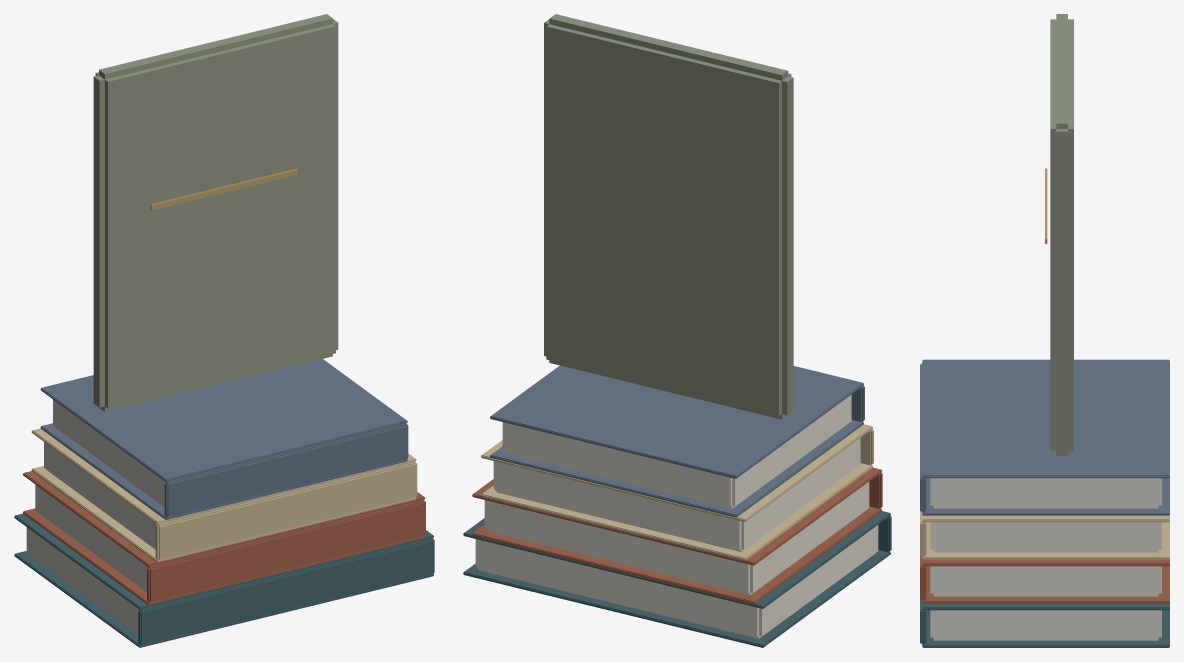
The model's file is campaign_books.glb.
The picture shows the model from 3 angles, left to right: view 1: azimuth 30°, elevation 25°; view 2: azimuth 150°, elevation 25°; view 3: azimuth 270°, elevation 25°; orthographic projection. The views are drawn at different scales.
Visible parts, largest first — view 1: campaign_books_Book_jacket_4, campaign_books_Book_jacket_3, campaign_books_Book_jacket_0, campaign_books_Book_jacket_1, campaign_books_Book_jacket_2, campaign_books_Paper_page_edges, campaign_books_Satin_champagne; view 2: campaign_books_Book_jacket_4, campaign_books_Paper_page_edges, campaign_books_Book_jacket_3, campaign_books_Book_jacket_0, campaign_books_Book_jacket_1, campaign_books_Book_jacket_2; view 3: campaign_books_Book_jacket_3, campaign_books_Paper_page_edges, campaign_books_Book_jacket_4, campaign_books_Book_jacket_0, campaign_books_Book_jacket_1, campaign_books_Book_jacket_2.
Boxes of the visible parts, x1,y1,x2,y2 form: campaign_books_Book_jacket_4: (93, 14, 338, 411); campaign_books_Book_jacket_3: (40, 359, 408, 519); campaign_books_Book_jacket_0: (14, 513, 434, 647); campaign_books_Book_jacket_1: (23, 471, 425, 604); campaign_books_Book_jacket_2: (31, 428, 417, 562); campaign_books_Paper_page_edges: (26, 399, 165, 634); campaign_books_Satin_champagne: (150, 168, 297, 210); campaign_books_Book_jacket_4: (544, 14, 793, 419); campaign_books_Paper_page_edges: (475, 394, 878, 638); campaign_books_Book_jacket_3: (490, 365, 864, 517); campaign_books_Book_jacket_0: (463, 511, 891, 647); campaign_books_Book_jacket_1: (472, 467, 882, 604); campaign_books_Book_jacket_2: (481, 424, 873, 560); campaign_books_Book_jacket_3: (920, 359, 1169, 515); campaign_books_Paper_page_edges: (930, 478, 1161, 640); campaign_books_Book_jacket_4: (1050, 14, 1073, 456); campaign_books_Book_jacket_0: (920, 599, 1169, 647); campaign_books_Book_jacket_1: (920, 555, 1169, 603); campaign_books_Book_jacket_2: (920, 511, 1169, 559).
Size of the model in its own units: 0.42 by 0.703 by 0.313.
